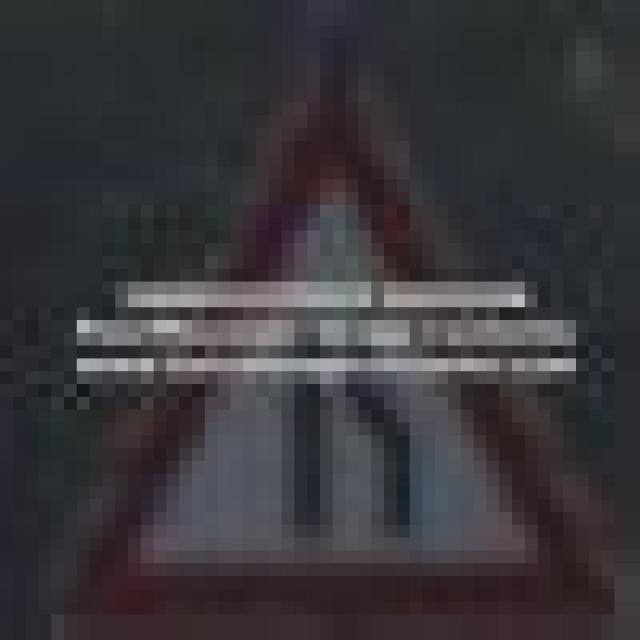narrow_road: (51, 51, 627, 627)
